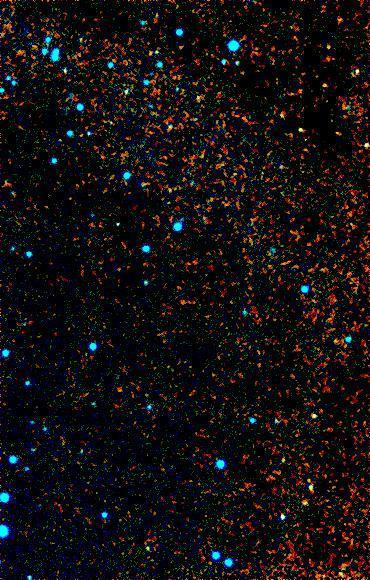star: (137, 34, 167, 64)
